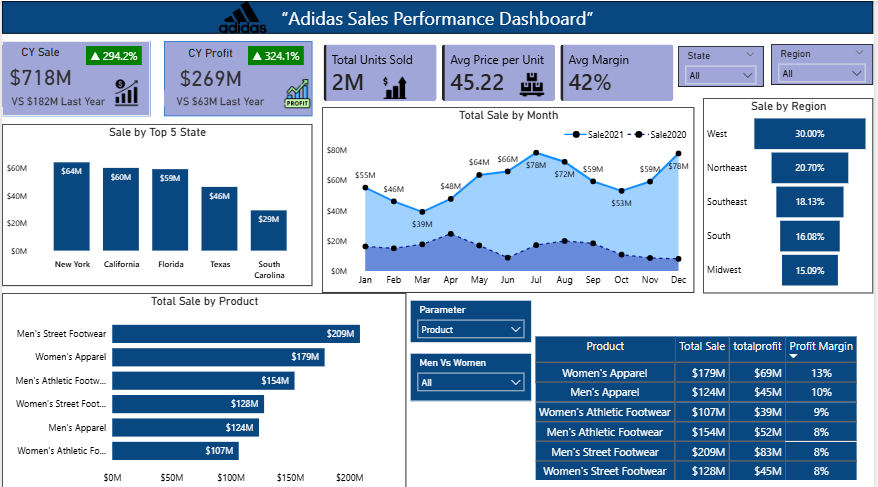

The dashboard page shown, as its layout file describes it:
{"tool":"powerbi","page":{"name":"Page 1","canvas":[1280,720],"ordinal":0},"visuals":[{"type":"columnChart","title":"Sale by Top 5 State","fields":{"Category":["Adidas Sales.State"],"Y":["Adidas Sales.totalsale"]},"box":[0,180.7,455.5,238],"z":0},{"type":"cardVisual","fields":{"Data":["Sum(Adidas Sales.Units Sold)","Avg(Adidas Sales.Price per Unit)","Avg(Adidas Sales.Operating Margin)"]},"box":[455.5,47,548.1,117.6],"z":1000},{"type":"lineChart","title":"Total Sale by Month","fields":{"Category":["DateTable.month"],"Y":["Adidas Sales.Sale2021","Adidas Sales.Sale2020"]},"box":[470.2,155.8,546.6,273.3],"z":2000},{"type":"textbox","box":[0,0,1279.8,48.5],"z":3000},{"type":"shape","box":[0,58.8,218.1,110.5],"z":3003,"group":"g2"},{"type":"shape","box":[238,58.8,218.1,110.5],"z":3003,"group":"g1"},{"type":"advanceCardE03760C5AB684758B56AA29F9E6C257B","title":"CY Sale","fields":{"mainMeasure":["Adidas Sales.Sale2021"]},"box":[0,65,113.1,77.9],"z":3253,"group":"g2"},{"type":"advanceCardE03760C5AB684758B56AA29F9E6C257B","title":"CY Profit","fields":{"mainMeasure":["Adidas Sales.Profit2021"]},"box":[250,66.3,113.5,77.7],"z":3253,"group":"g1"},{"type":"advanceCardE03760C5AB684758B56AA29F9E6C257B","fields":{"mainMeasure":["Adidas Sales.2020"]},"box":[0,130.5,165.8,25.4],"z":3503,"group":"g2"},{"type":"advanceCardE03760C5AB684758B56AA29F9E6C257B","fields":{"mainMeasure":["Adidas Sales.LY Profit"]},"box":[238,130.5,165.8,25.4],"z":3503,"group":"g1"},{"type":"barChart","fields":{"Category":["Adidas Sales.Product"],"Y":["Adidas Sales.totalsale"]},"box":[0,429.1,593.6,290.9],"z":4000},{"type":"slicer","fields":{"Values":["Parameter.Parameter"]},"box":[599.5,439.3,179.3,63.2],"z":5000},{"type":"shape","box":[124,66.3,82.2,28.4],"z":5502,"group":"g2"},{"type":"shape","box":[362,66.3,82.2,28.4],"z":5502,"group":"g1"},{"type":"pivotTable","fields":{"Rows":["Adidas Sales.Product"],"Values":["Adidas Sales.totalsale","Adidas Sales.totalprofit","StandardDeviation(Adidas Sales.Operating Margin)"]},"box":[778.8,487.8,501.1,232.2],"z":6000},{"type":"image","box":[146.4,114.1,71.7,40.3],"z":6503,"group":"g2"},{"type":"group","id":"g1","title":"Group 3","box":[238,58.8,217.5,110.2],"z":6505,"group":"g3"},{"type":"funnel","title":"Sale by Region","fields":{"Category":["Adidas Sales.Region"],"Y":["Adidas Sales.totalsale"]},"box":[1030,142.5,249.8,286.5],"z":7000},{"type":"image","box":[296.8,0,114.6,47],"z":8000},{"type":"slicer","fields":{"Values":["Adidas Sales.State"]},"box":[993.3,66.1,126.4,60.2],"z":9000},{"type":"slicer","fields":{"Values":["Adidas Sales.Region"]},"box":[1130,63.2,149.9,60.2],"z":10000},{"type":"image","box":[555.4,110.2,44.1,35.3],"z":11000},{"type":"image","box":[734.7,104.3,88.2,36.7],"z":12000},{"type":"group","id":"g2","title":"Group 3","box":[0,58.8,218.1,110.5],"z":13000},{"type":"group","id":"g3","title":"Group 1","box":[238,58.8,227.7,110.2],"z":14000},{"type":"slicer","fields":{"Values":["Adidas Sales.Men Vs Women"]},"box":[599.5,517.2,179.3,70.5],"z":15000},{"type":"image","box":[402.5,115,63.2,42.6],"z":15500,"group":"g3"}]}

Visuals, with their boxes in screenshot pixels (x1, y1, x2, y2), scaled from the page's 1280x720 canvas onto the 878x487 screenshot:
"Sale by Top 5 State" columnChart: x1=0 y1=122 x2=312 y2=283
cardVisual - Sum(Adidas Sales.Units Sold) x Avg(Adidas Sales.Price per Unit): x1=312 y1=32 x2=688 y2=111
"Total Sale by Month" lineChart: x1=323 y1=105 x2=697 y2=290
textbox: x1=0 y1=0 x2=877 y2=33
shape: x1=0 y1=40 x2=150 y2=115
shape: x1=163 y1=40 x2=313 y2=115
"CY Sale" advanceCardE03760C5AB684758B56AA29F9E6C257B: x1=0 y1=44 x2=78 y2=97
"CY Profit" advanceCardE03760C5AB684758B56AA29F9E6C257B: x1=171 y1=45 x2=249 y2=97
advanceCardE03760C5AB684758B56AA29F9E6C257B - Adidas Sales.2020: x1=0 y1=88 x2=114 y2=105
advanceCardE03760C5AB684758B56AA29F9E6C257B - Adidas Sales.LY Profit: x1=163 y1=88 x2=277 y2=105
barChart - Adidas Sales.Product x Adidas Sales.totalsale: x1=0 y1=290 x2=407 y2=486
slicer - Parameter.Parameter: x1=411 y1=297 x2=534 y2=340
shape: x1=85 y1=45 x2=141 y2=64
shape: x1=248 y1=45 x2=305 y2=64
pivotTable - Adidas Sales.Product x Adidas Sales.totalsale: x1=534 y1=330 x2=877 y2=486
image: x1=100 y1=77 x2=150 y2=104
"Group 3" group: x1=163 y1=40 x2=312 y2=114
"Sale by Region" funnel: x1=707 y1=96 x2=877 y2=290
image: x1=204 y1=0 x2=282 y2=32
slicer - Adidas Sales.State: x1=681 y1=45 x2=768 y2=85
slicer - Adidas Sales.Region: x1=775 y1=43 x2=877 y2=83
image: x1=381 y1=75 x2=411 y2=98
image: x1=504 y1=71 x2=564 y2=95
"Group 3" group: x1=0 y1=40 x2=150 y2=115
"Group 1" group: x1=163 y1=40 x2=319 y2=114
slicer - Adidas Sales.Men Vs Women: x1=411 y1=350 x2=534 y2=398
image: x1=276 y1=78 x2=319 y2=107
